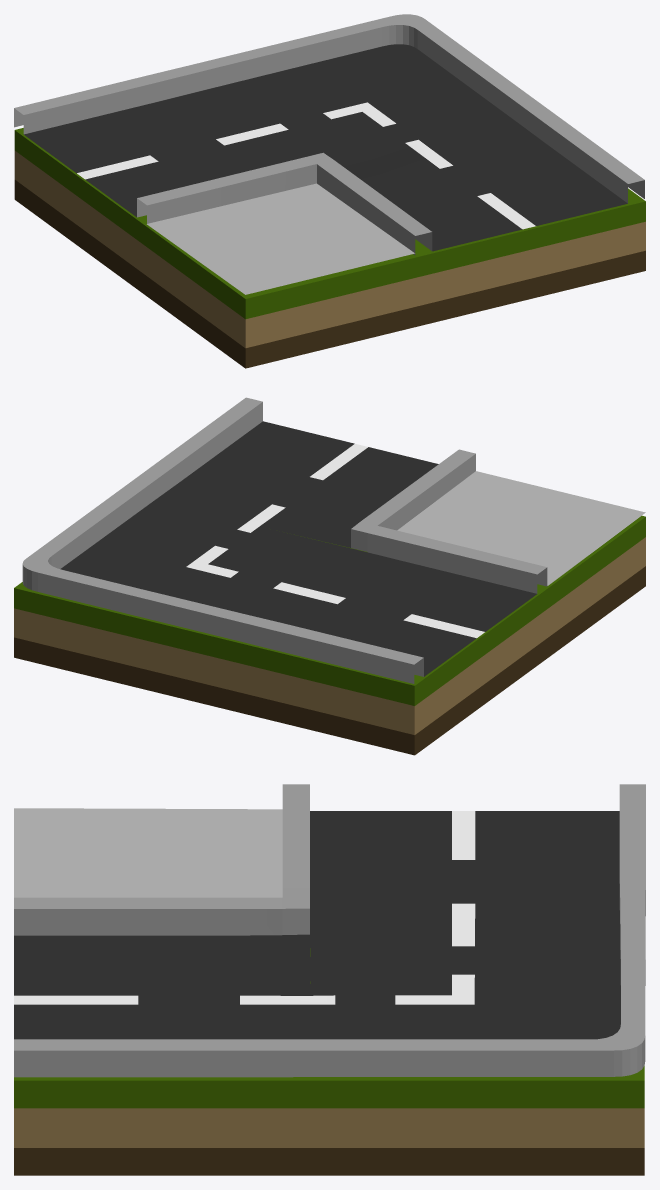
The model's file is rotation road_merge_feedback02.fbx.
3 views of the same model, one above another, from view 1: azimuth 30°, elevation 25°; view 2: azimuth 150°, elevation 25°; view 3: azimuth 270°, elevation 25° (orthographic). The views are drawn at different scales.
Visible parts, largest first — view 1: rotation road; view 2: rotation road; view 3: rotation road.
Part boxes in pixels (left/top/right/bottom): rotation road: left=14, top=14, right=645, bottom=368; rotation road: left=14, top=397, right=645, bottom=755; rotation road: left=14, top=784, right=645, bottom=1175.
Size of the model in its own units: 199 by 43.1 by 198.
